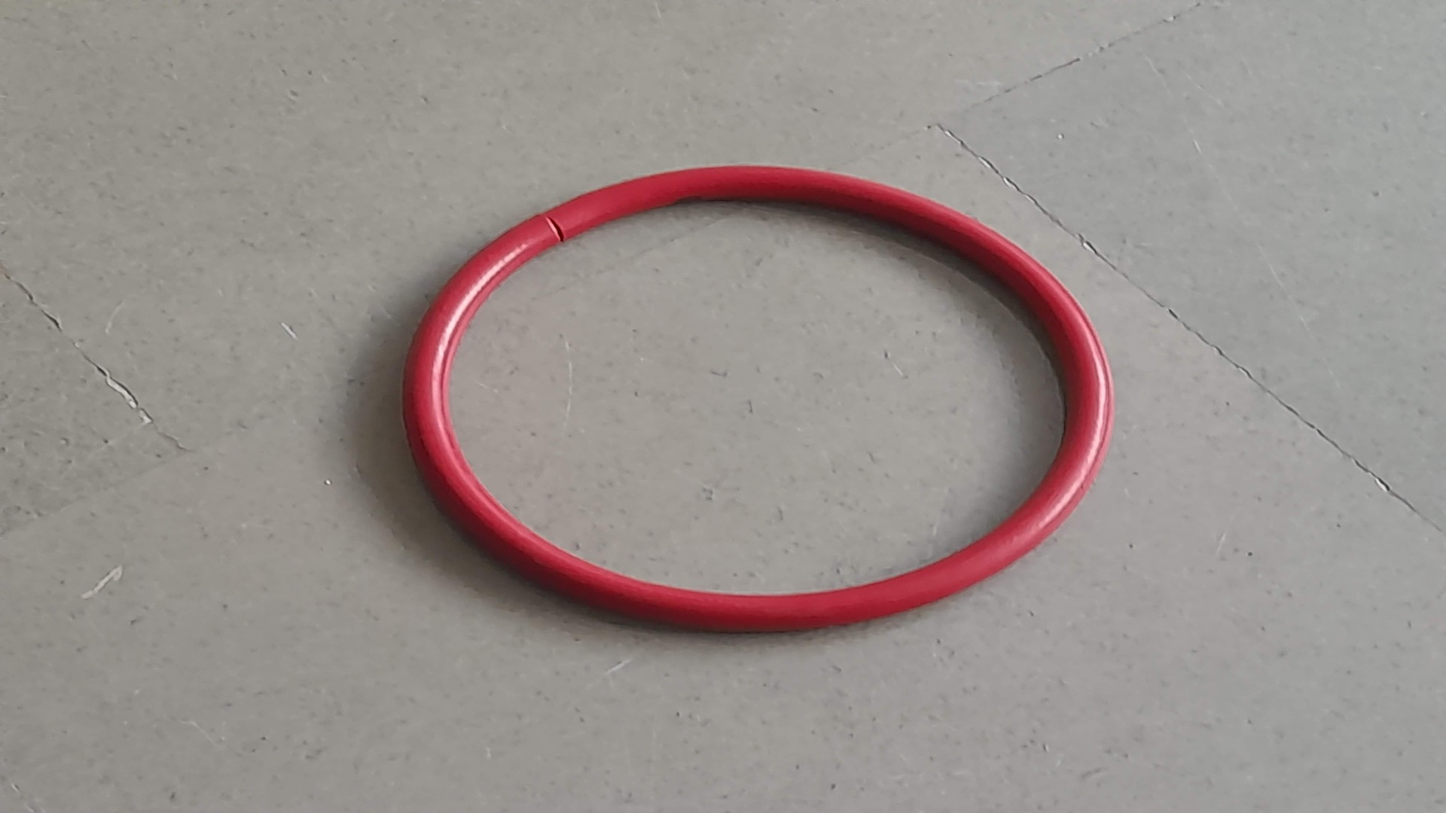Red ring: (410, 167, 1113, 634)
